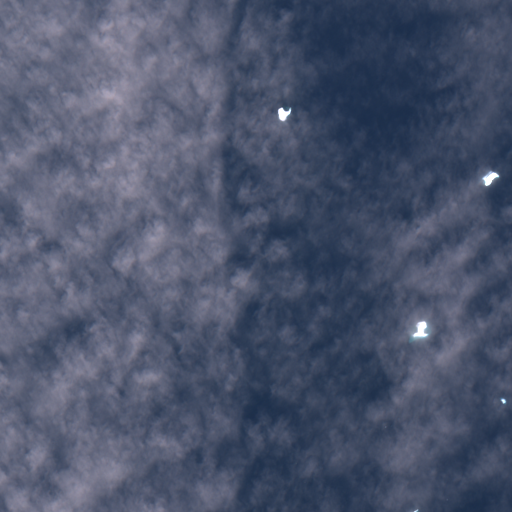Iceberg: (482, 171, 498, 185), (413, 321, 427, 336), (278, 107, 290, 120), (500, 398, 505, 403), (414, 509, 418, 511)
